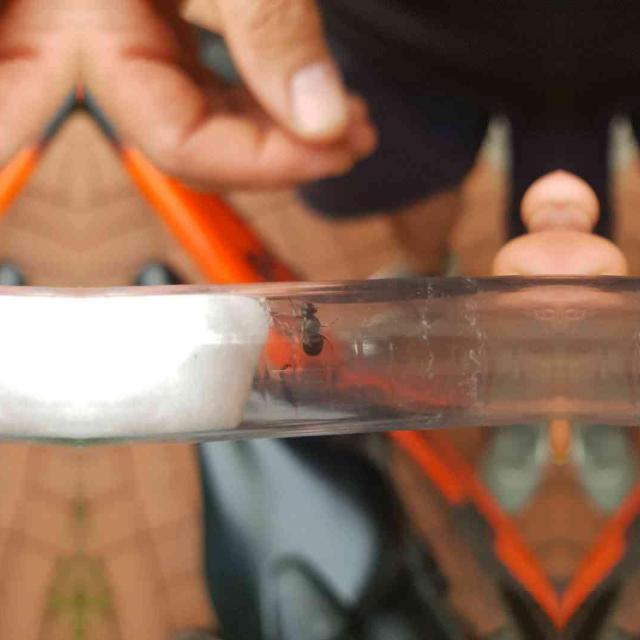Lasius: (292, 298, 332, 360)
